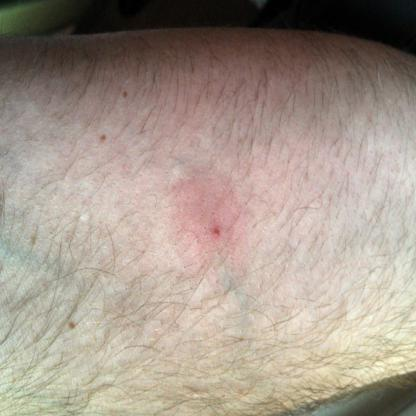Fire ant: (197, 206, 231, 250)
